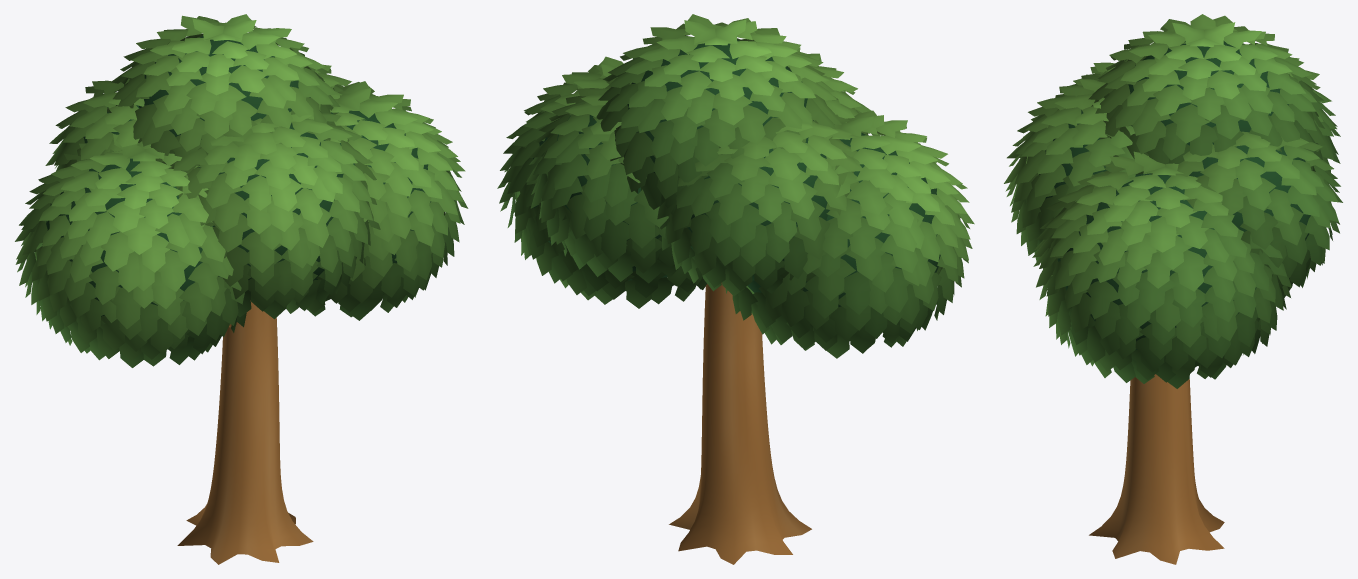
File: tree_grand.glb
3 views of the same model, side by side, from view 1: azimuth 30°, elevation 25°; view 2: azimuth 150°, elevation 25°; view 3: azimuth 270°, elevation 25° (orthographic). The views are drawn at different scales.
Parts seen in each view (by area): view 1: tree_grand; view 2: tree_grand; view 3: tree_grand.
Boxes of the visible parts, left/top/right/bottom form: tree_grand: left=15, top=14, right=468, bottom=564; tree_grand: left=497, top=14, right=974, bottom=564; tree_grand: left=1004, top=14, right=1342, bottom=564.
Bounding box in the file's own units: 5.59 × 6.31 × 3.84.
